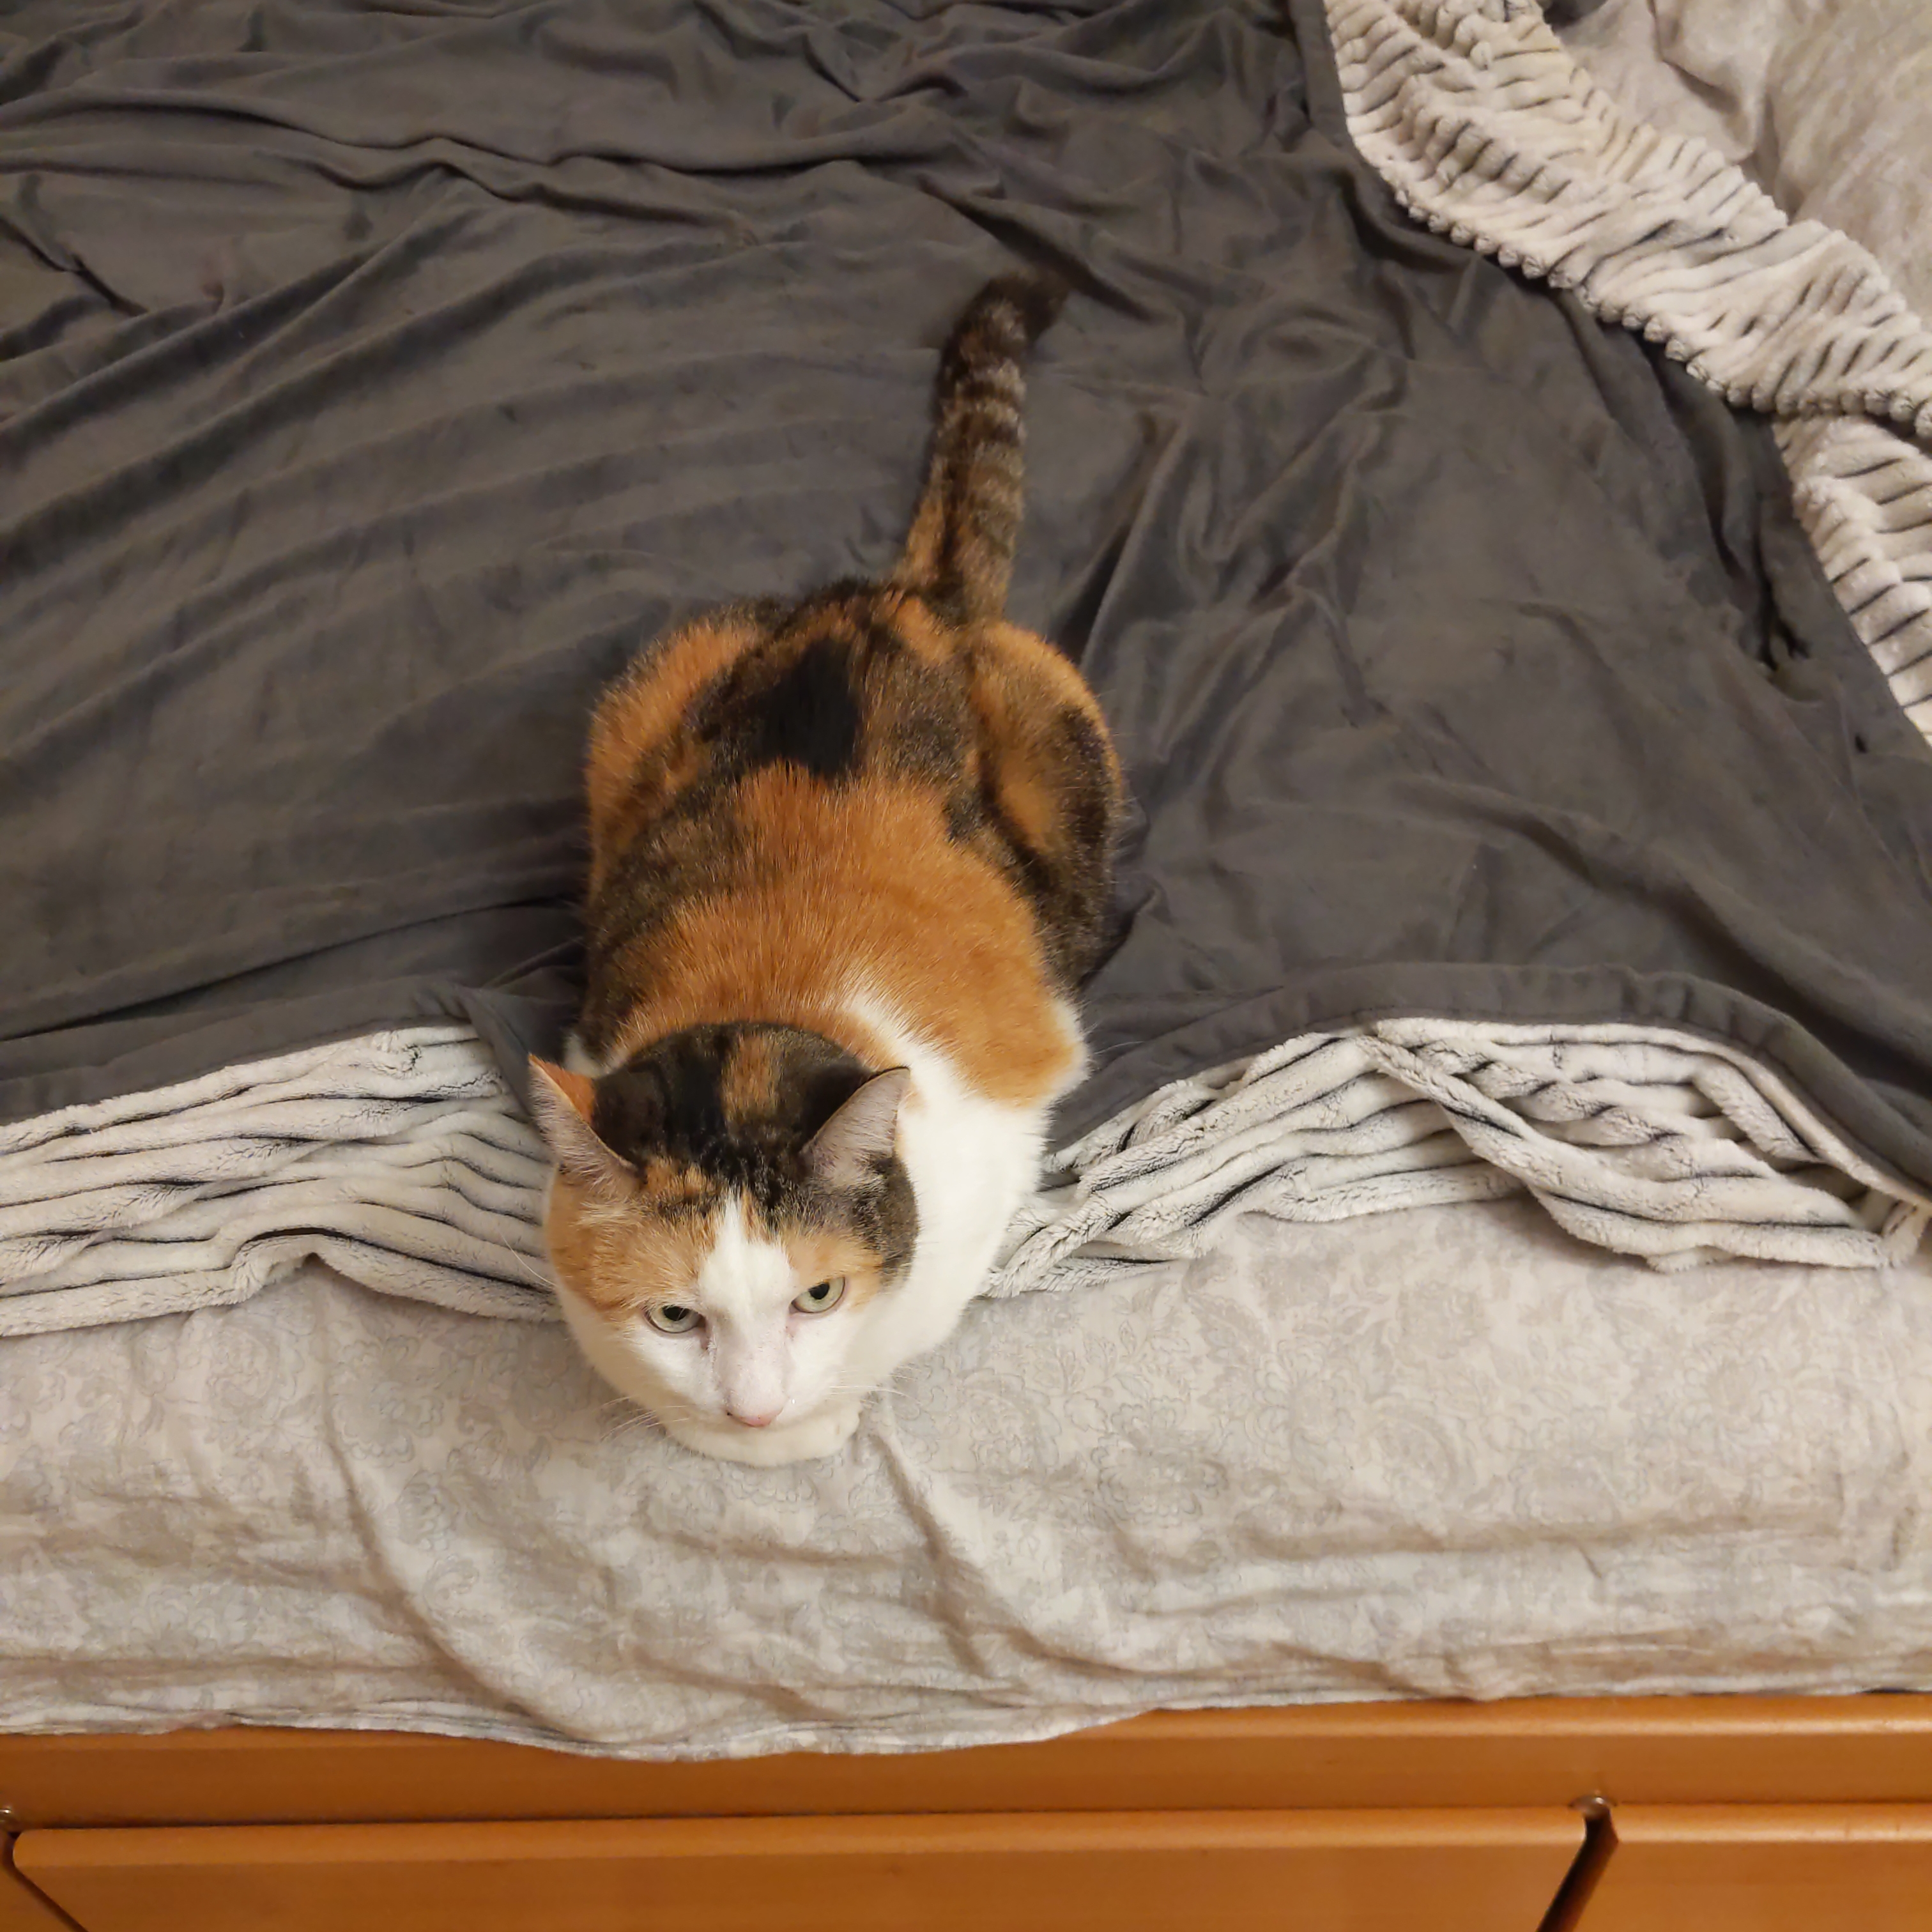Calico: (527, 276, 1123, 1467)
